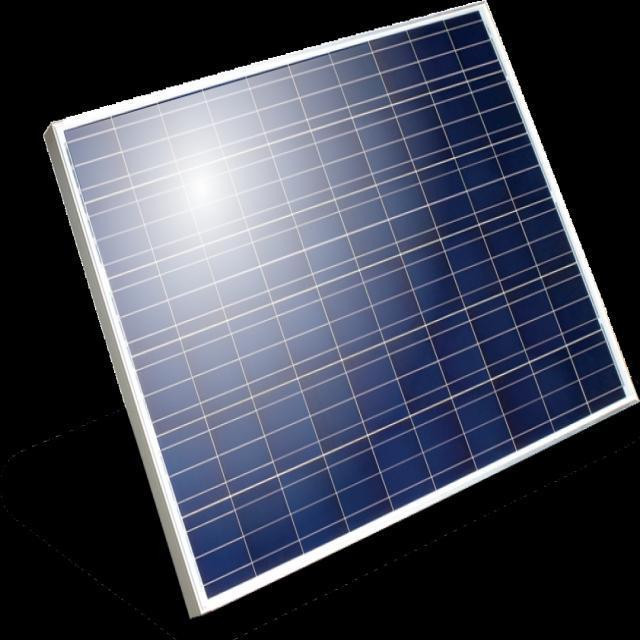no faulty: (71, 6, 632, 595)
